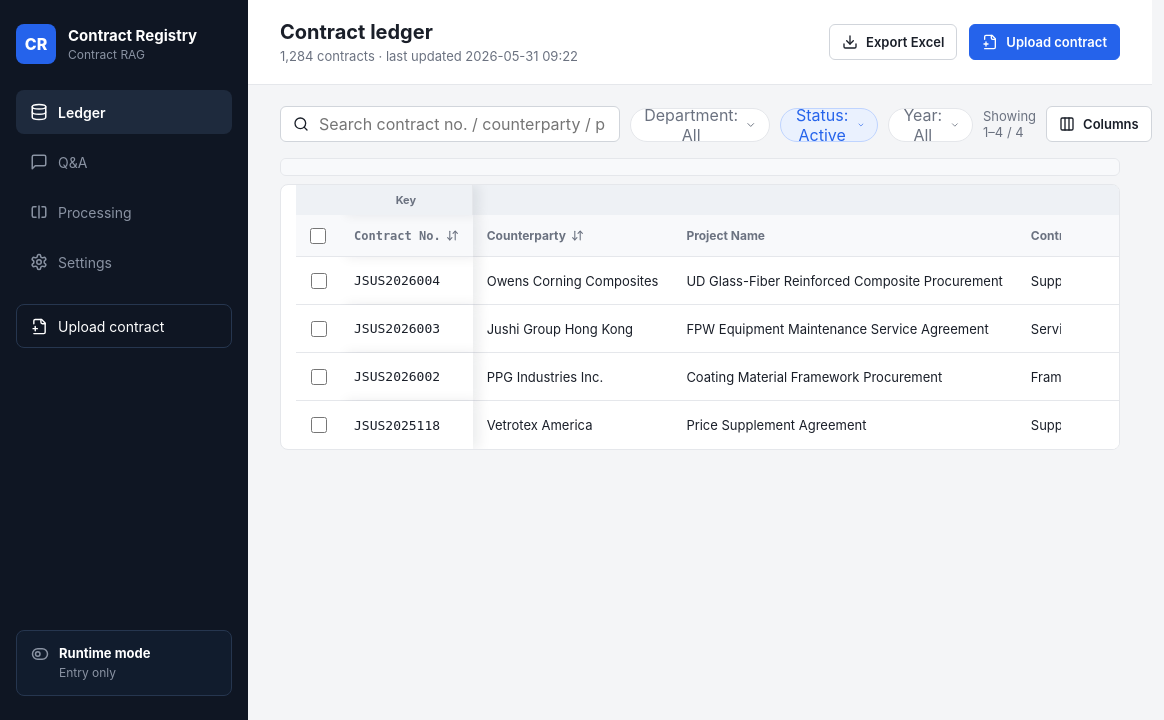
Test: Contract-RAG frontend › debounces ledger search requests while keeping immediate local feedback
Expected: the text "Owens Corning Composites" is shown, x1=473 y1=257 x2=672 y2=305
Type "PPG" into the field with placeholder "Search contract no. / counterparty / project" at (462, 124), box x1=317 y1=112 x2=607 y2=134
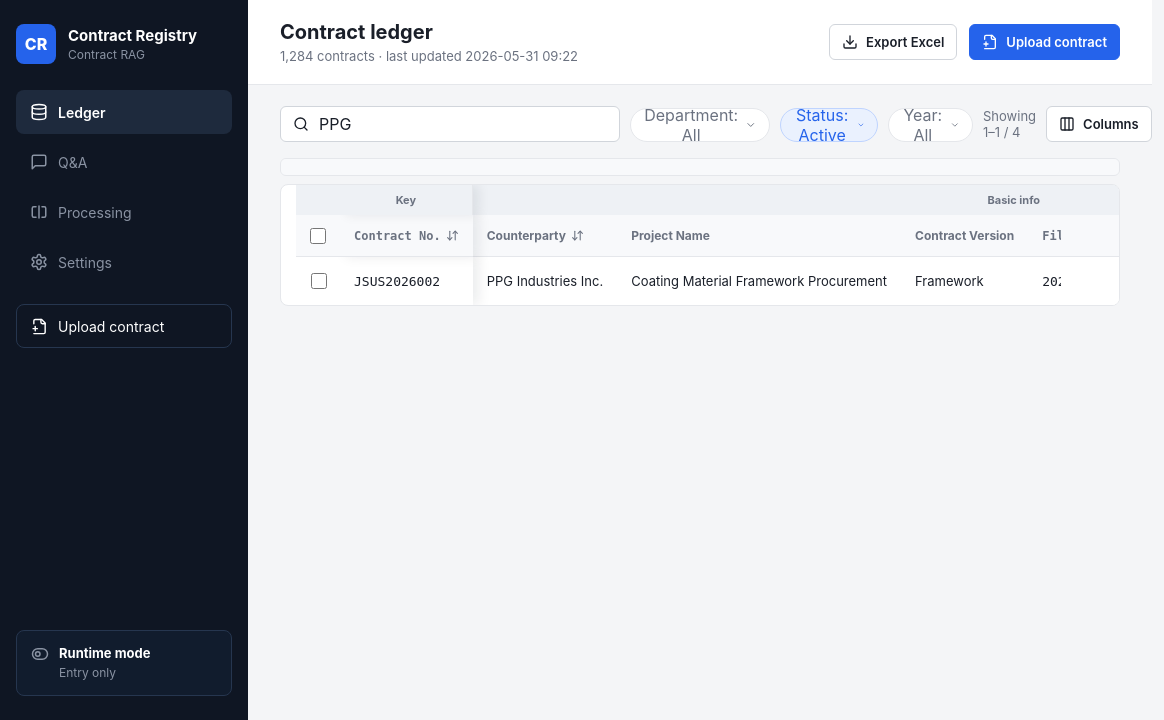
Expected: the text "PPG Industries Inc." is shown, x1=473 y1=257 x2=617 y2=305
Result: the text "Owens Corning Composites" is gone
